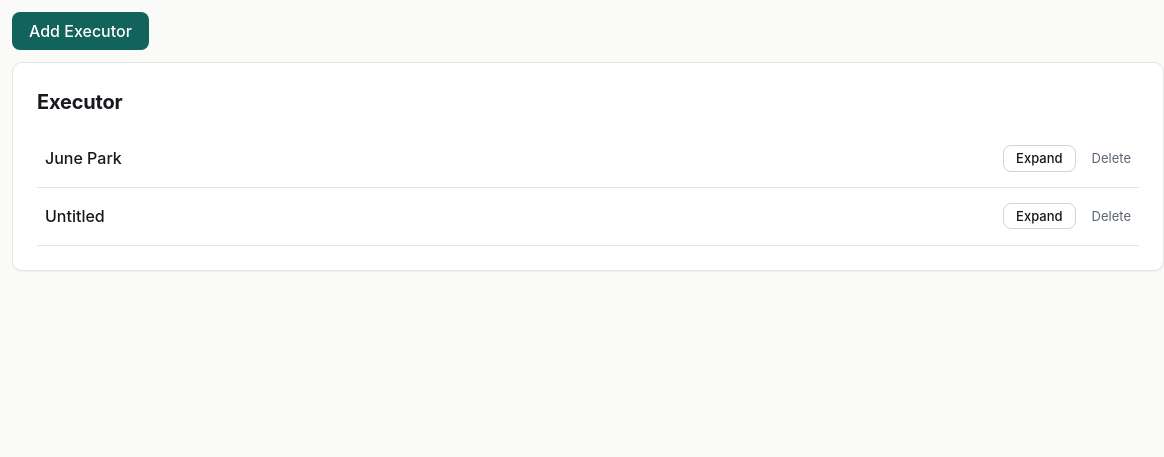
Test: FormRenderer › reveals an invalid collapsed sibling when record-local save validates the section
Step 1. Click the button with aria-label "Expand June Park" → (1039, 158), box [1003,145,1076,172]
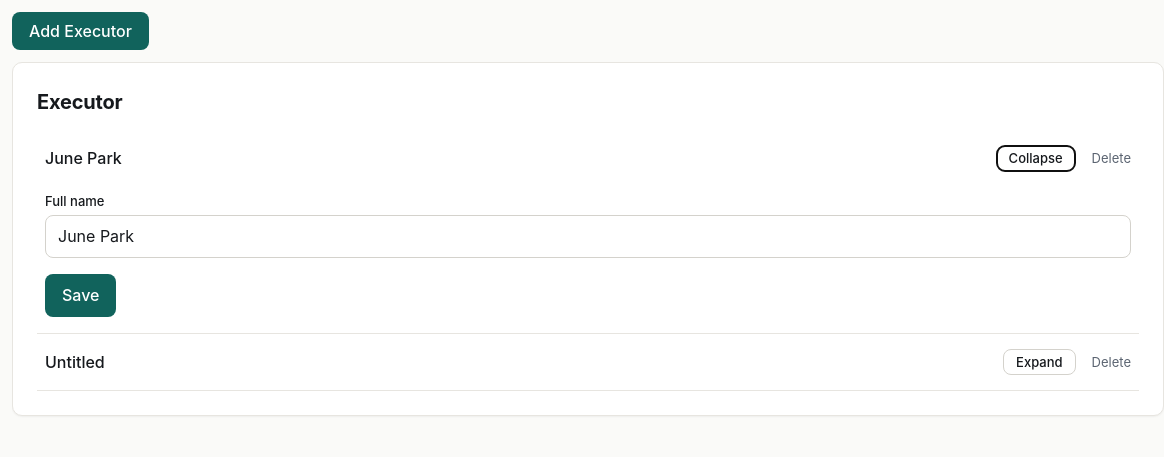
Step 2. Click the button "Save" → (81, 295), box [45,274,116,316]
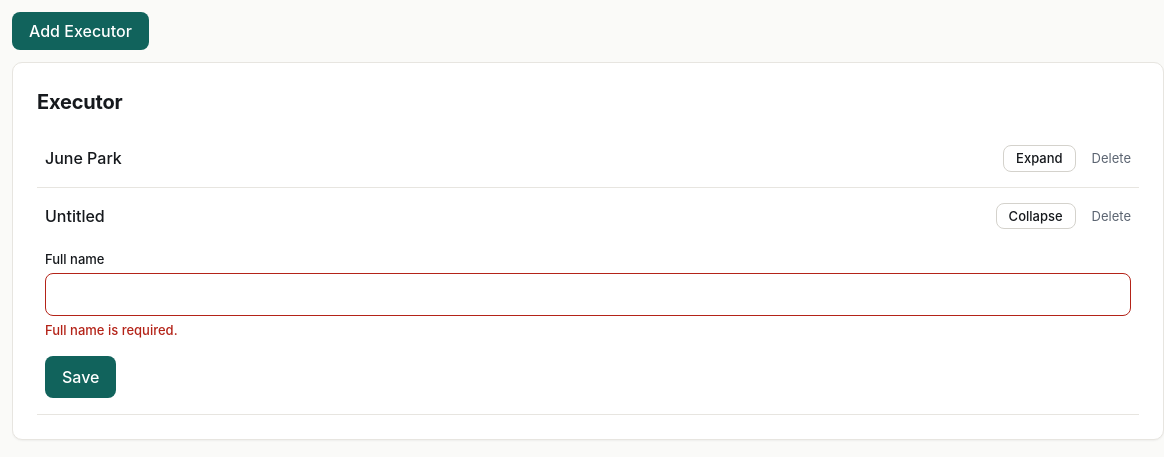
Check: the message reads "Full name is required.", box [45,322,178,338]
Check: the button with aria-label "Collapse Untitled" is expanded, box [996,203,1076,229]
